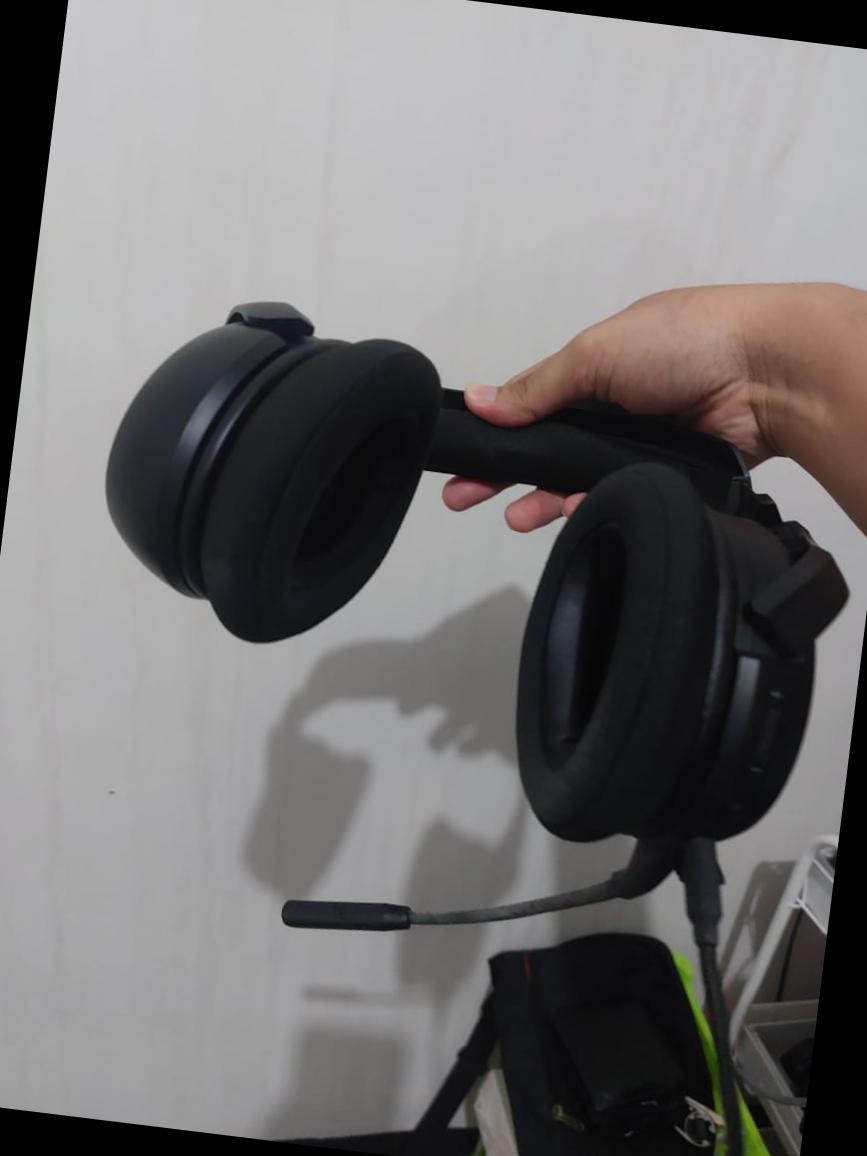Headset: (37, 276, 864, 1000)
